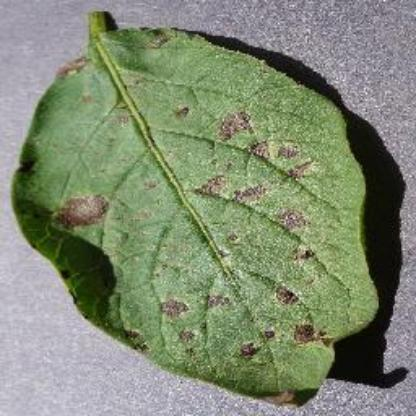Early-Blight: (14, 11, 394, 406)
